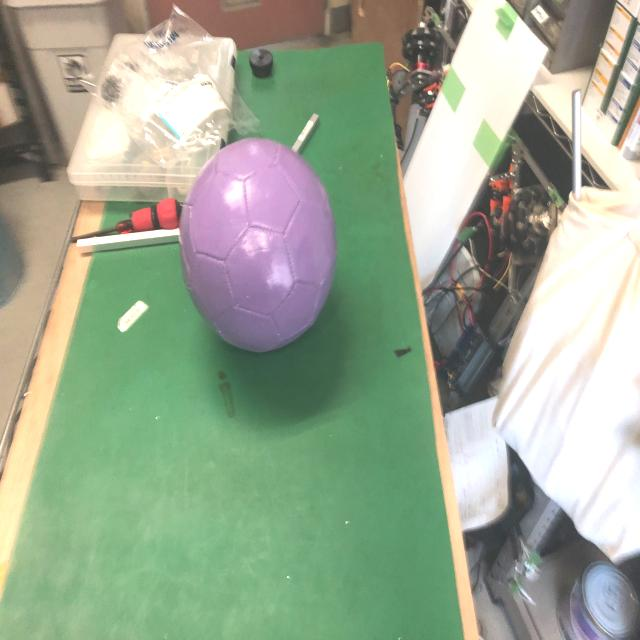purple_ball: (178, 134, 338, 354)
